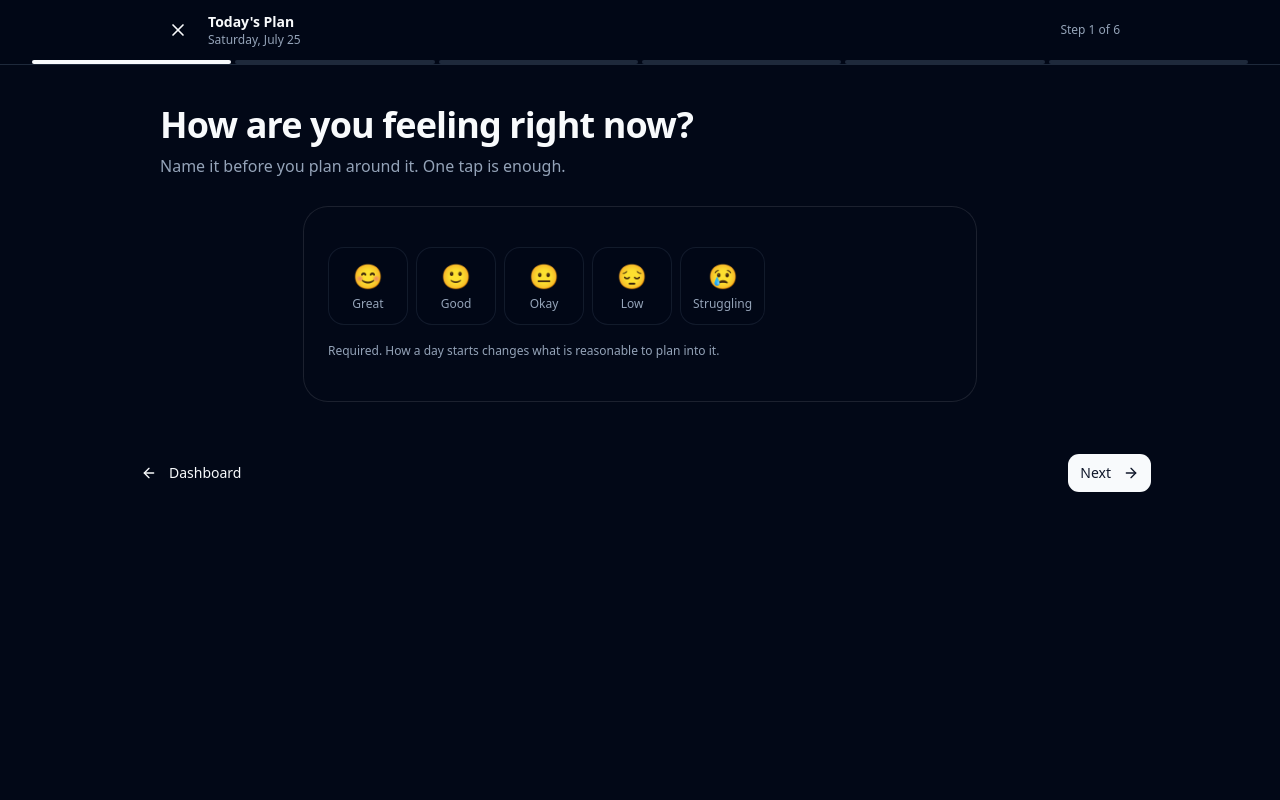
Scenario: TodayPlanner › asks for reasons only once there is a feeling to explain
Expected: the text "What is behind that?" is not shown
Expected: the button "adventure" is not shown
Click the button "🙂 good". click: (456, 286)
box: [416, 247, 496, 325]
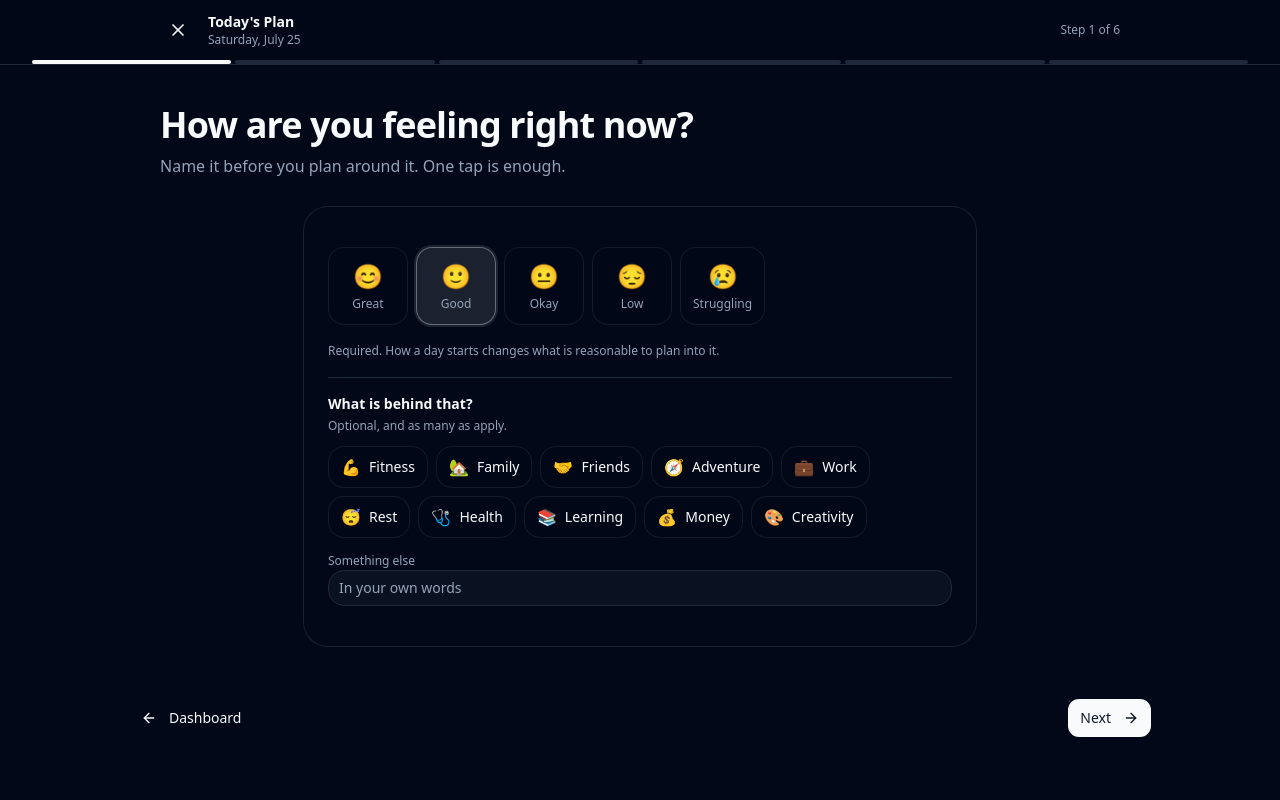
Expected: the text "What is behind that?" is shown, [328, 394, 473, 412]
Expected: the button "🧭 Adventure" is shown, [651, 446, 773, 488]
